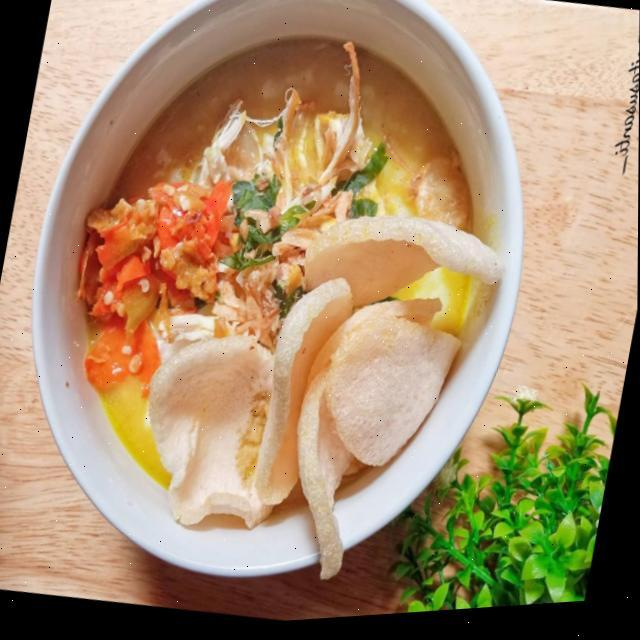bubur ayam: (31, 0, 538, 581)
mangkuk: (0, 0, 573, 637)
sambal: (59, 161, 232, 397)
